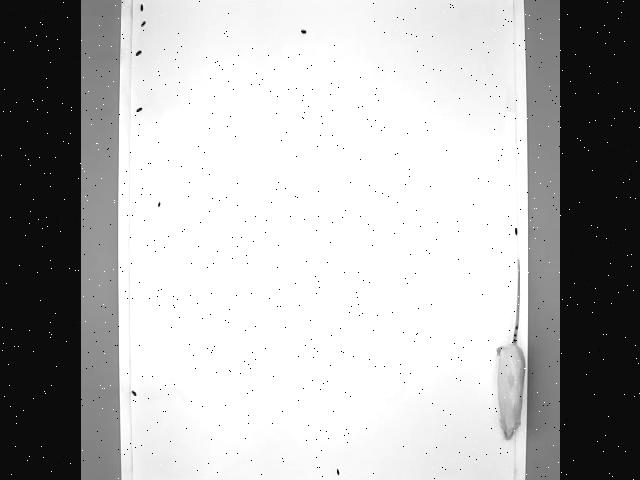Tikus: (492, 251, 527, 446)
